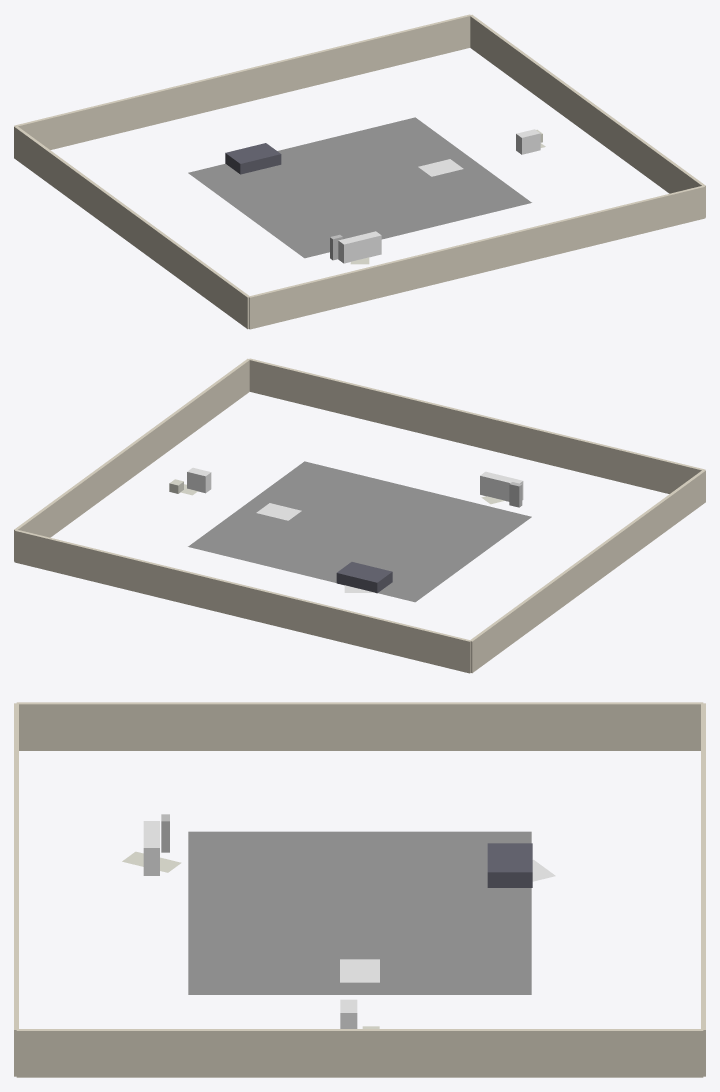
The model's file is beautiful_boq_d10e21bf-2094-4aa6-b905-4a6fa6036f52.obj.
3 views of the same model, one above another, from view 1: azimuth 30°, elevation 25°; view 2: azimuth 150°, elevation 25°; view 3: azimuth 270°, elevation 25° (orthographic). The views are drawn at different scales.
Parts seen in each view (by area): view 1: Foundation, ExteriorWall_South, ExteriorWall_North, ExteriorWall_West, ExteriorWall_East, Bed_Master_Bedroom, KitchenIsland_Kitchen, Vanity_Bathroom; view 2: Foundation, ExteriorWall_North, ExteriorWall_South, ExteriorWall_West, ExteriorWall_East, Bed_Master_Bedroom, KitchenIsland_Kitchen, Vanity_Bathroom; view 3: Foundation, ExteriorWall_East, ExteriorWall_West, Bed_Master_Bedroom, ExteriorWall_North, ExteriorWall_South, Floor_Living_Room, KitchenIsland_Kitchen.
Boxes of the visible parts, x1,y1,x2,y2 form: Foundation: (188, 117, 531, 258); ExteriorWall_South: (248, 186, 705, 329); ExteriorWall_North: (14, 14, 470, 149); ExteriorWall_West: (14, 126, 249, 329); ExteriorWall_East: (470, 14, 705, 217); Bed_Master_Bedroom: (225, 143, 281, 174); KitchenIsland_Kitchen: (338, 231, 381, 263); Vanity_Bathroom: (516, 129, 540, 154); Foundation: (188, 461, 531, 602); ExteriorWall_North: (14, 529, 471, 673); ExteriorWall_South: (249, 358, 705, 493); ExteriorWall_West: (470, 470, 705, 673); ExteriorWall_East: (14, 358, 249, 561); Bed_Master_Bedroom: (336, 562, 392, 593); KitchenIsland_Kitchen: (480, 471, 523, 501); Vanity_Bathroom: (187, 467, 211, 493); Foundation: (188, 831, 531, 994); ExteriorWall_East: (16, 1029, 703, 1077); ExteriorWall_West: (16, 702, 703, 750); Bed_Master_Bedroom: (487, 843, 532, 887); ExteriorWall_North: (701, 703, 705, 1076); ExteriorWall_South: (14, 703, 18, 1076); Floor_Living_Room: (340, 959, 379, 982); KitchenIsland_Kitchen: (143, 821, 159, 875).
Bounding box in the file's own units: 45.3 × 3 × 40.3.
